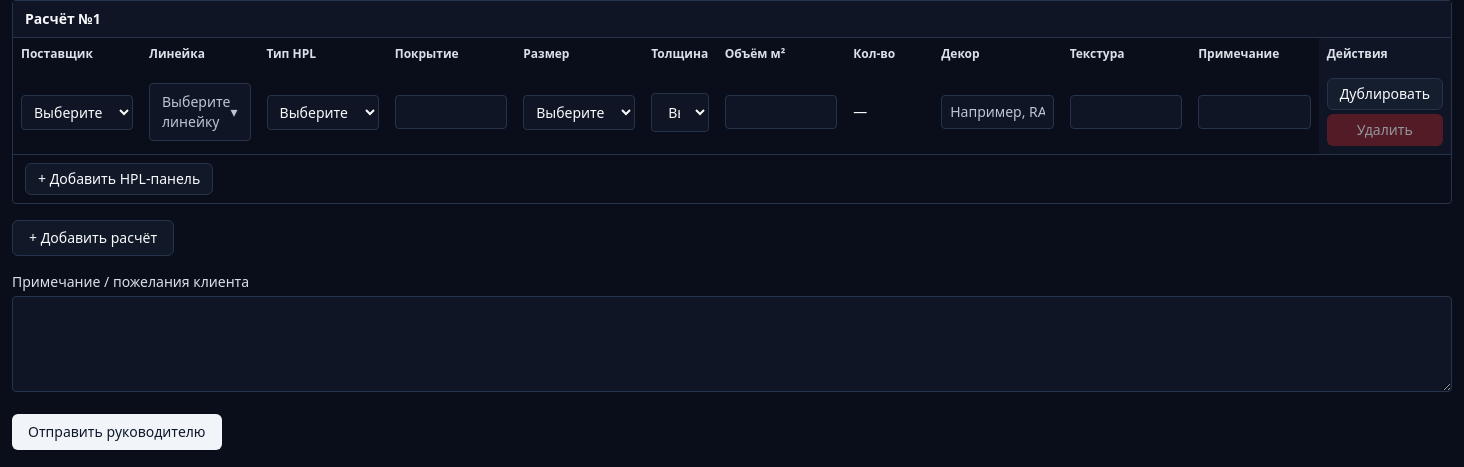
Test case: CalculationRequestForm › previews 180 sheets for 1830×3050 mm and 1000 m²
Expected: the text named "Количество, строка 1" reads "—", [853,102,867,121]
In the field named "Объём м², строка 1": [781, 112] box [725,95,837,129], type "1000"
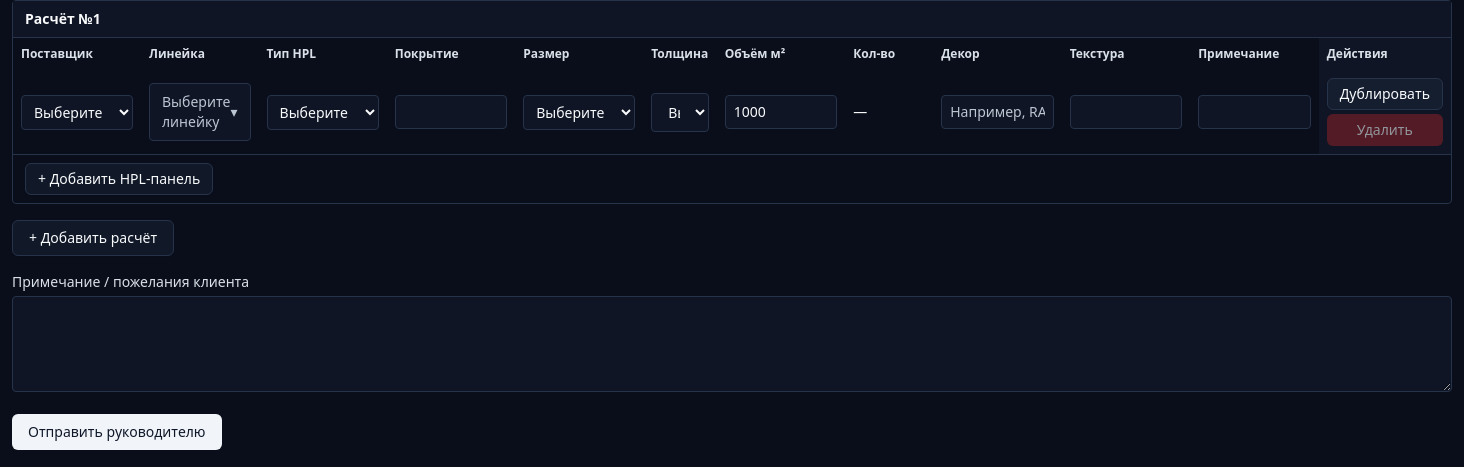
Expected: the text named "Количество, строка 1" reads "—", [853,102,867,121]
Select "1830 × 3050" in the dropdown named "Размер, строка 1": [579, 112] box [523,94,635,130]
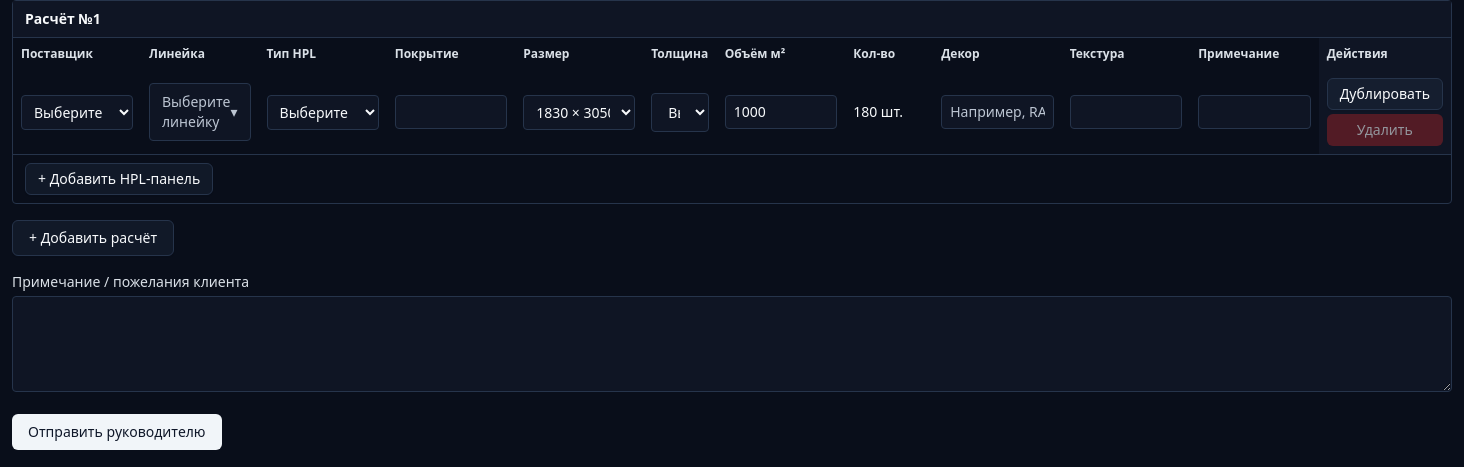
Result: the text named "Количество, строка 1" reads "180 шт." at [853,102,903,121]
